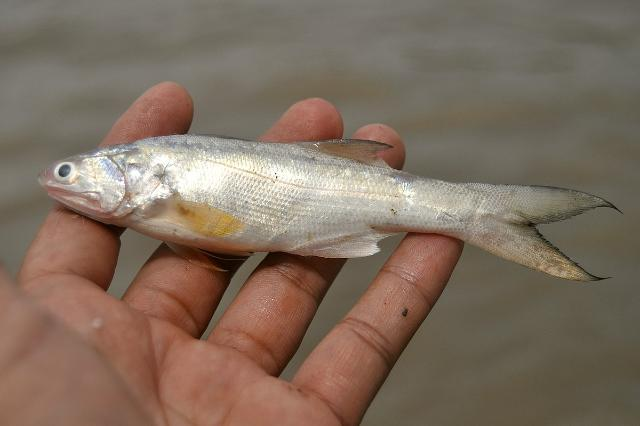Mulut: (18, 146, 116, 228)
Sirip Anal: (282, 218, 412, 270)
Sirip Dada: (132, 182, 248, 248)
Sirip Ekor: (452, 172, 632, 294)
Sirip Perut: (159, 234, 263, 287)
Sirip Punggung: (281, 123, 407, 179)
